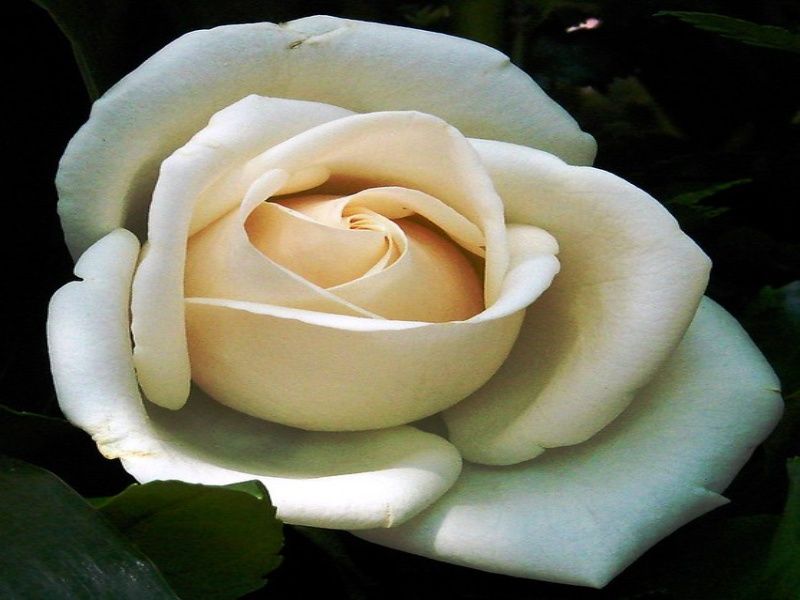rose: (28, 23, 787, 580)
